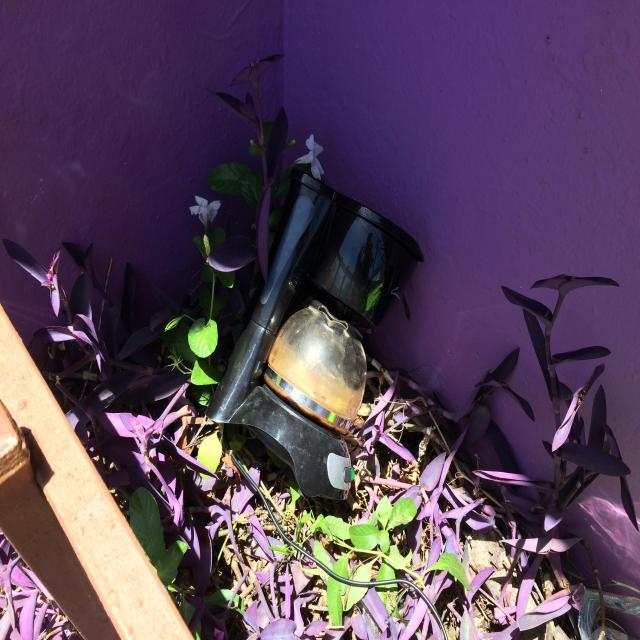litter: (209, 163, 423, 514)
